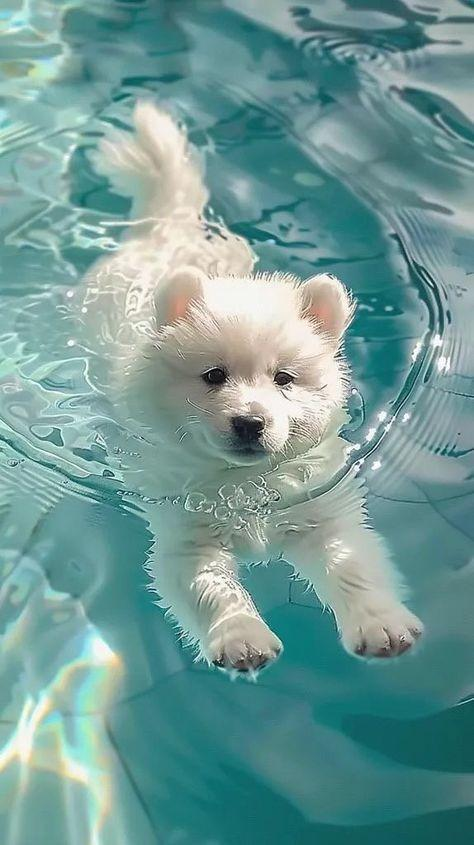puppy-dog: (67, 96, 427, 679)
